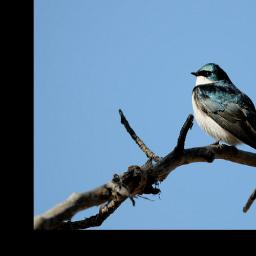Swallow: (189, 62, 256, 163)
